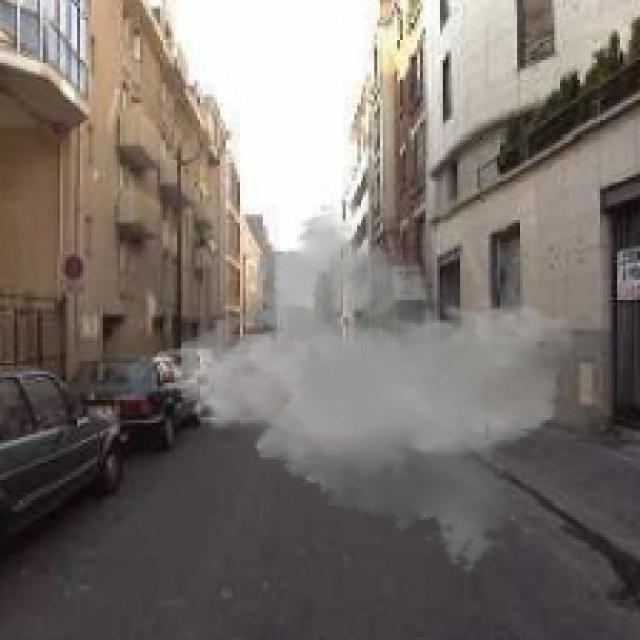Smoke: (172, 202, 577, 574)
